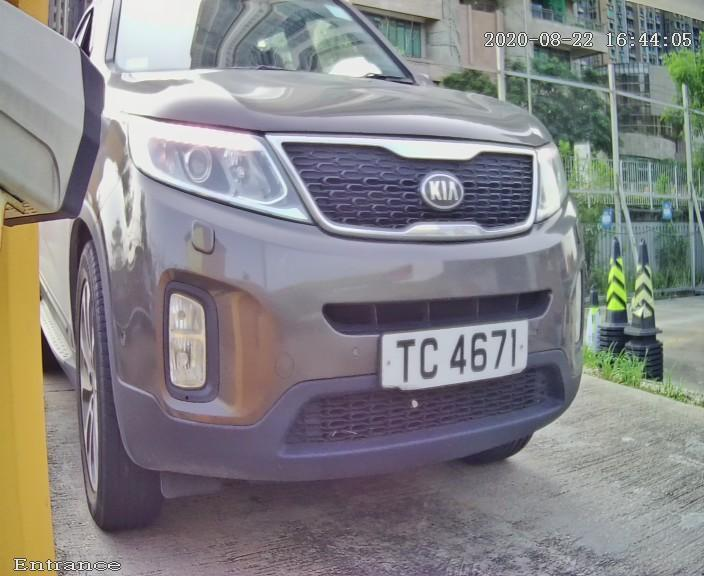Car: (19, 1, 635, 528)
License Plate: (375, 312, 535, 394)
